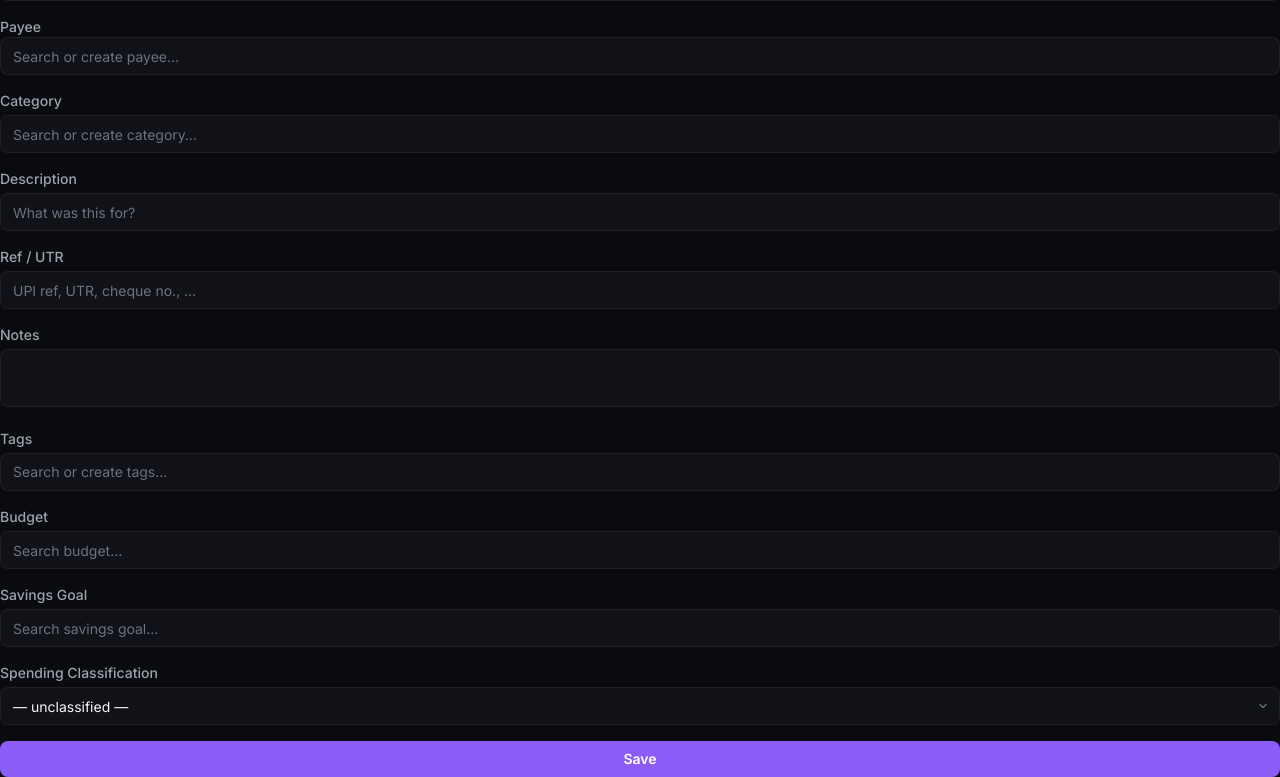
TransactionForm component › shows validation error when amount is missing
(page scrolled)
Click the button "Save".
click(640, 759)  # box [0,741,1279,776]
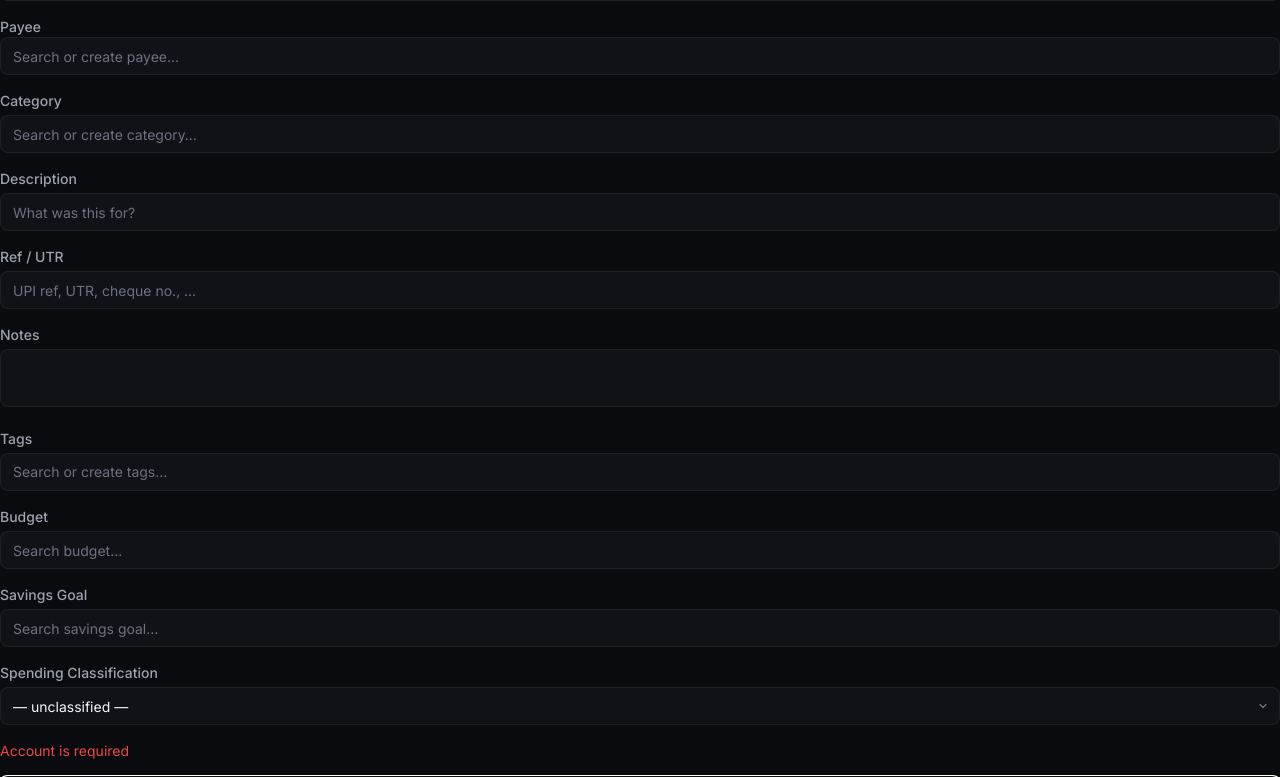
expect the message reads "Account is required": met, box [0,742,129,759]
